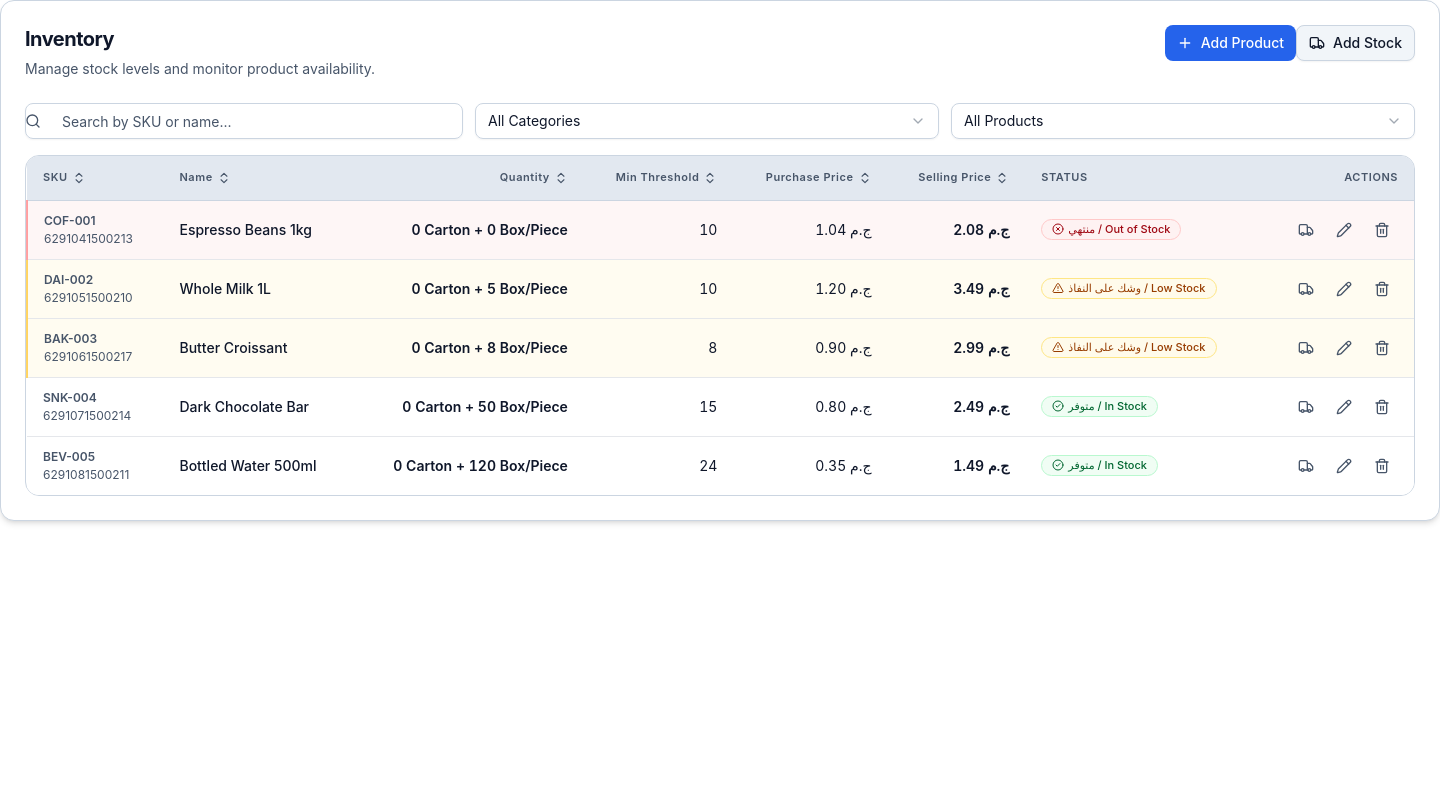
Test: InventoryTable › opens the edit modal prefilled from the table
The width and height of the screenshot is (1440, 810).
Click the button named "Edit Espresso Beans 1kg" at (1344, 230), box x1=1328 y1=214 x2=1360 y2=246
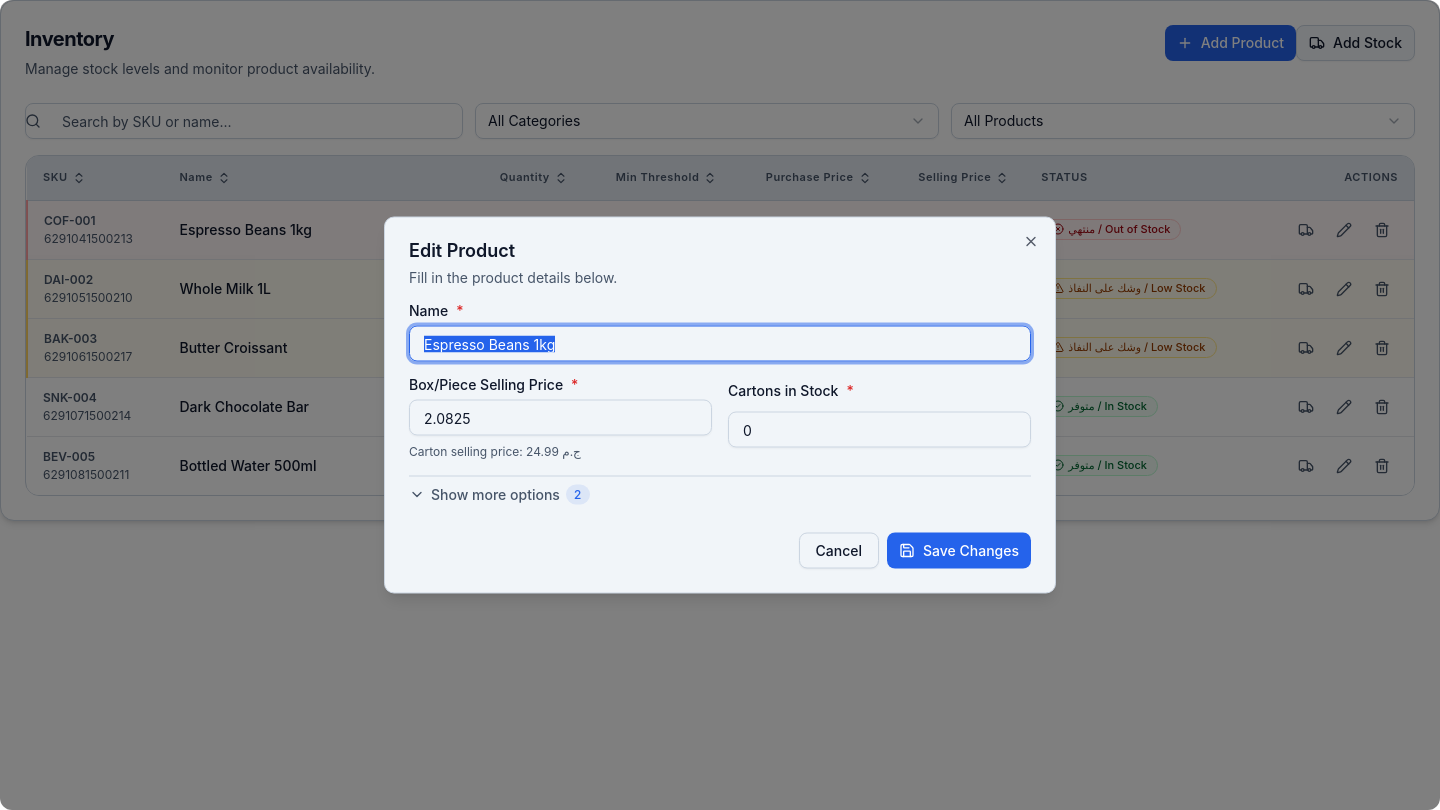
Result: the heading "Edit Product" is shown at x1=409 y1=240 x2=515 y2=260
Result: the field named "Name*" holds "Espresso Beans 1kg" at x1=409 y1=326 x2=1031 y2=362
Result: the number field named "Cartons in Stock*" holds "0" at x1=728 y1=412 x2=1031 y2=448
